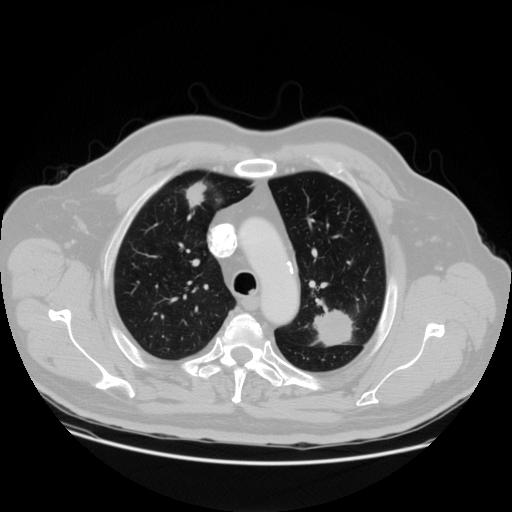nodule: (312, 306, 356, 350)
